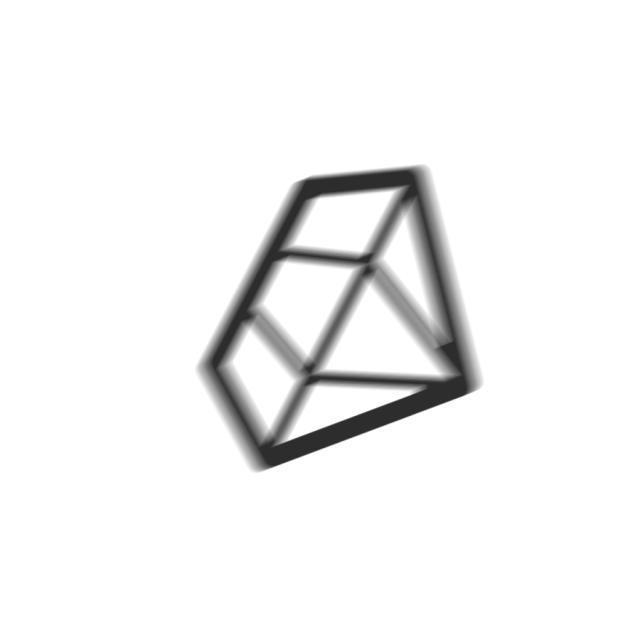diamond: (188, 158, 492, 483)
